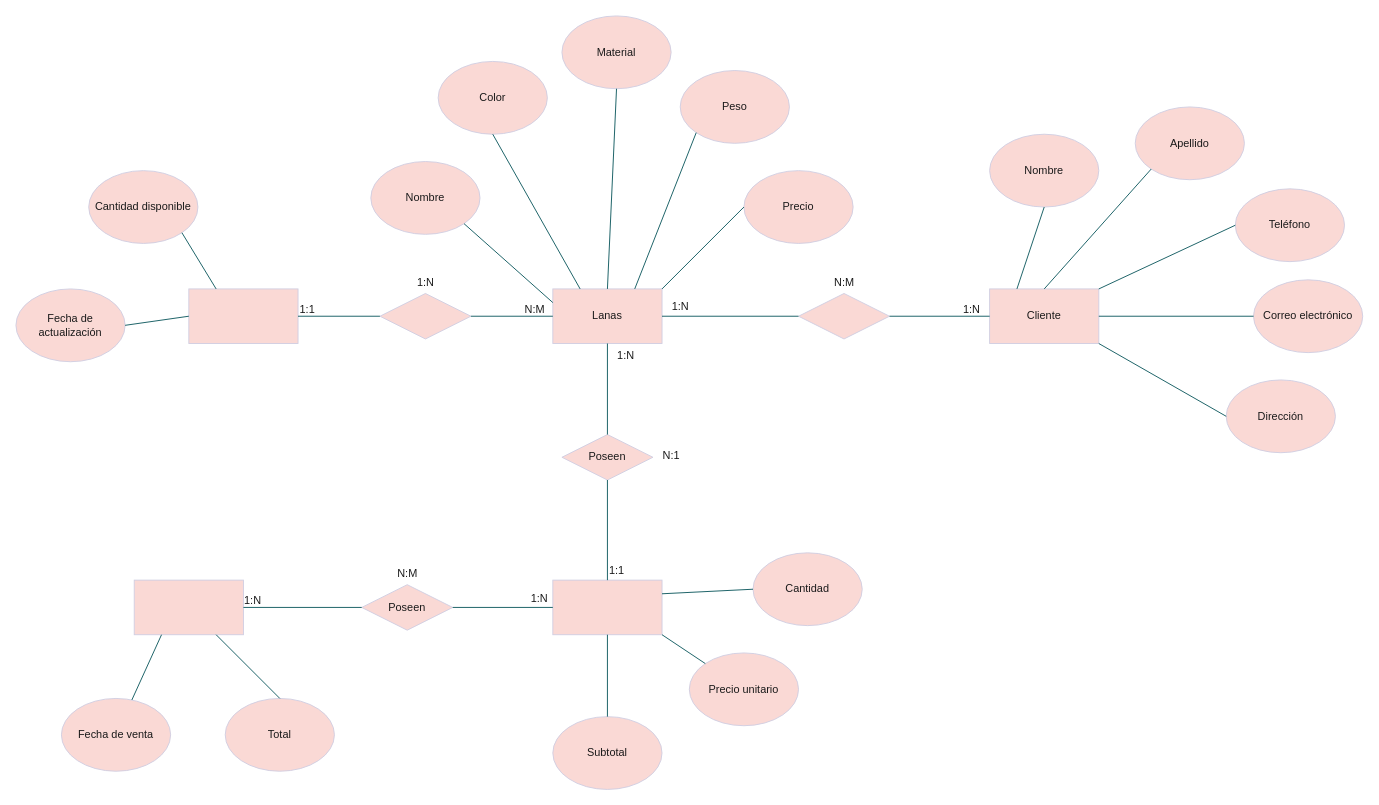
The diagram is 1379 pixels wide and 805 high, and some of its shapes have lost their labels. The shapes that lost their labels are listed below. From the top down, each one's centre as x and y in pixels, then its label:
At point 243,316: "Inventario".
At point 425,316: "Pertenecen".
At point 844,316: "Adquieren".
At point 188,607: "Ventas".
At point 607,607: "Detalle de venta".
